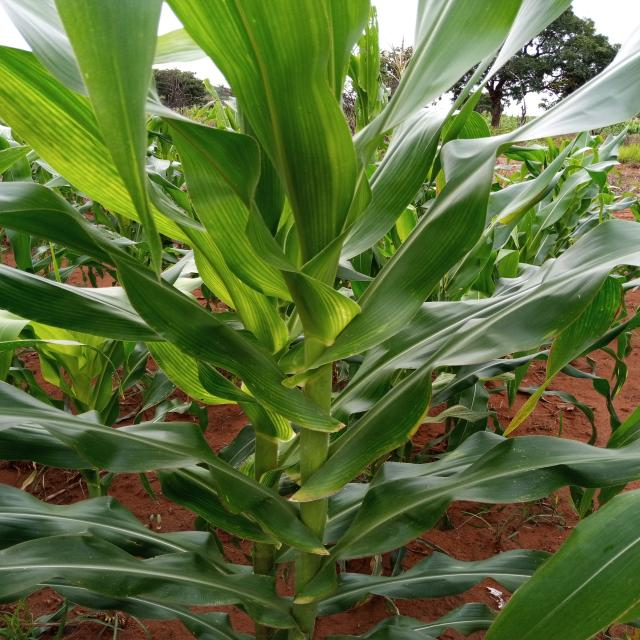healthy-maize: (248, 0, 331, 260), (406, 215, 566, 332), (61, 0, 145, 180), (265, 407, 359, 553), (0, 541, 179, 587), (559, 539, 640, 625), (2, 407, 102, 468)
